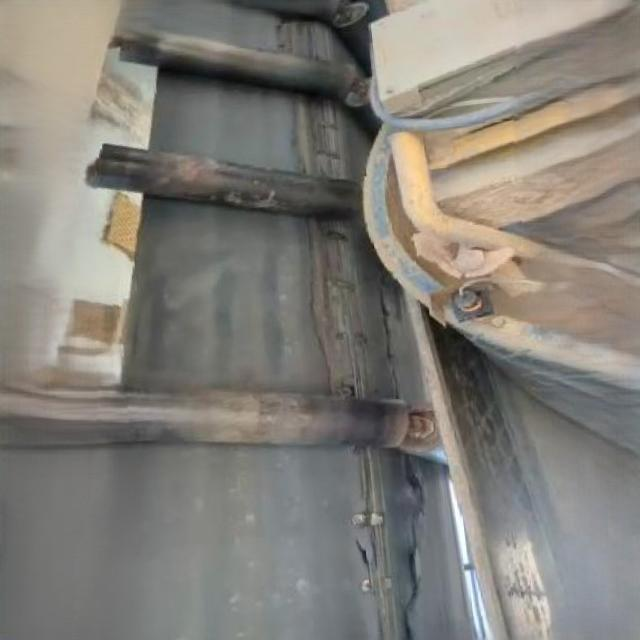Tear: (300, 213, 405, 399), (339, 445, 432, 640), (282, 99, 360, 182)
